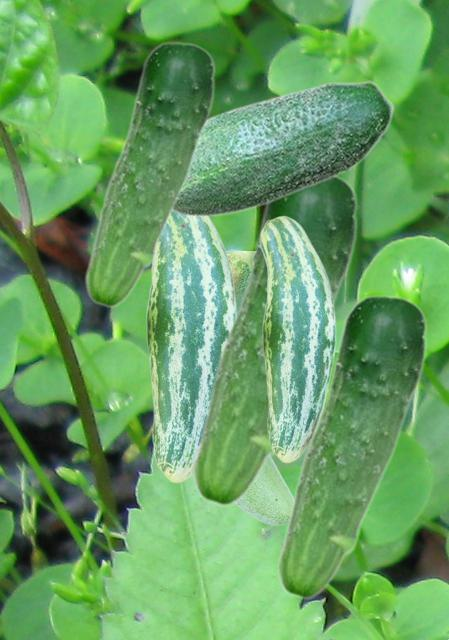cucumber: (190, 175, 358, 506), (276, 294, 427, 599), (84, 41, 215, 307), (173, 80, 394, 216), (145, 213, 236, 482), (259, 215, 335, 462), (227, 251, 292, 524)
